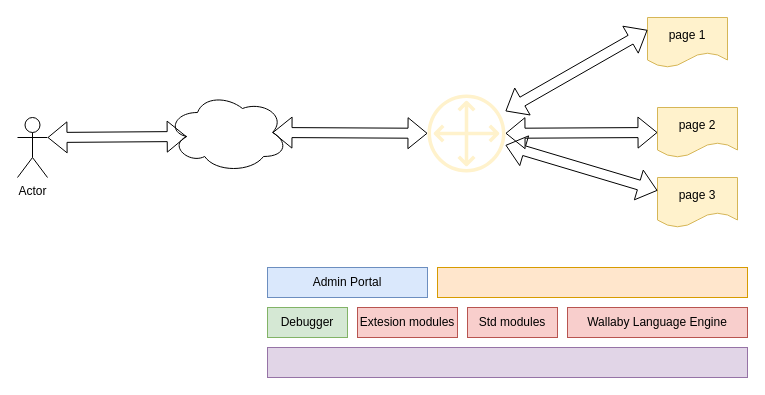
This 765x395 diagram has some shape labels left out. Here are the shapes that lost their labels. From the top down, the box of each, then its label:
(166, 92, 288, 172): Internet
(426, 94, 506, 172): Router Page
(436, 266, 748, 298): Worker Service
(266, 346, 748, 378): Pagwe OS
